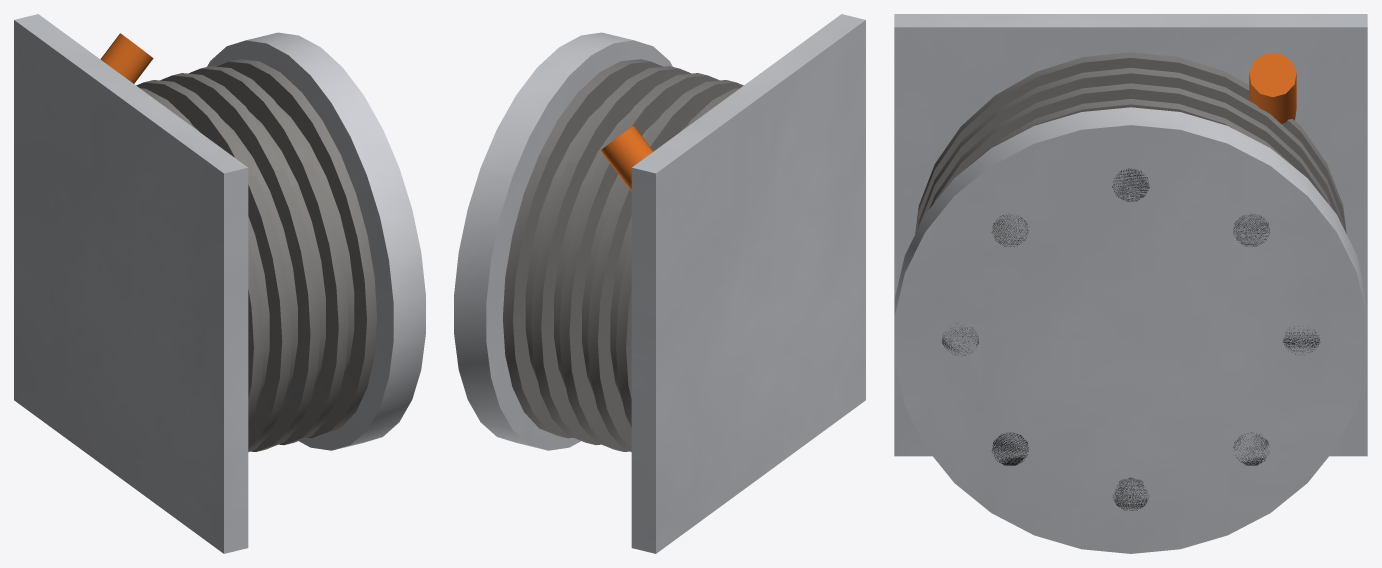
The model's file is rover19_hub_drive_motor_l.glb.
3 views of the same model, side by side, from view 1: azimuth 30°, elevation 25°; view 2: azimuth 150°, elevation 25°; view 3: azimuth 270°, elevation 25° (orthographic). The views are drawn at different scales.
Visible parts, largest first — view 1: mount_plate, fins, wheel_hub, stator, cable; view 2: mount_plate, fins, wheel_hub, stator, cable; view 3: wheel_hub, mount_plate, fins, hub_bolts, cable.
Part boxes in pixels (x1,y1,x2,y2): mount_plate: (14, 14, 248, 553); fins: (136, 59, 376, 451); wheel_hub: (207, 32, 425, 450); stator: (193, 104, 354, 401); cable: (100, 33, 153, 83); mount_plate: (631, 14, 865, 553); fins: (503, 59, 743, 451); wheel_hub: (454, 32, 672, 450); stator: (525, 104, 686, 401); cable: (600, 125, 653, 191); wheel_hub: (894, 107, 1367, 553); mount_plate: (894, 14, 1367, 456); fins: (915, 52, 1346, 233); hub_bolts: (942, 168, 1320, 510); cable: (1249, 53, 1296, 123).
Size of the model in its own units: 0.25 by 0.45 by 0.45.
4 materials, 2 textured.
